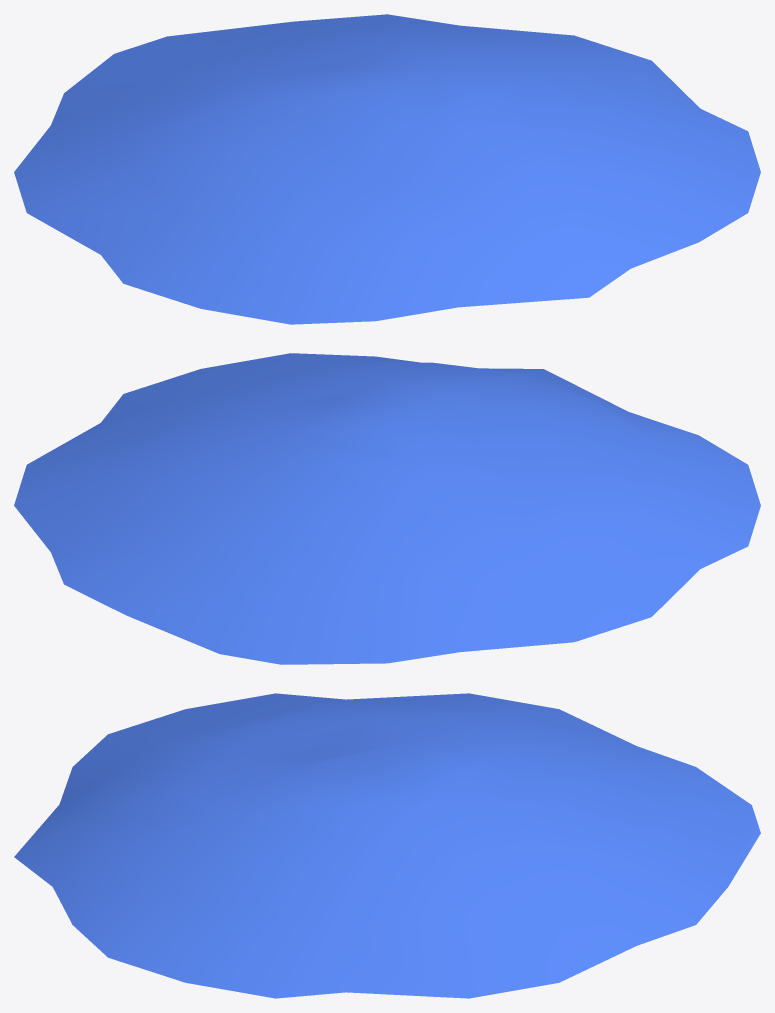
File: mizu.obj
The picture shows the model from 3 angles, top to bottom: view 1: azimuth 30°, elevation 25°; view 2: azimuth 150°, elevation 25°; view 3: azimuth 270°, elevation 25°; orthographic projection.
Visible parts, largest first — view 1: mizu:pDisc1; view 2: mizu:pDisc1; view 3: mizu:pDisc1.
Boxes of the visible parts, x1,y1,x2,y2 form: mizu:pDisc1: (14,14,760,324); mizu:pDisc1: (14,353,760,664); mizu:pDisc1: (14,693,760,998).
Bounding box in the file's own units: 1.93 × 0.2217 × 2.
1 material, 1 textured.
